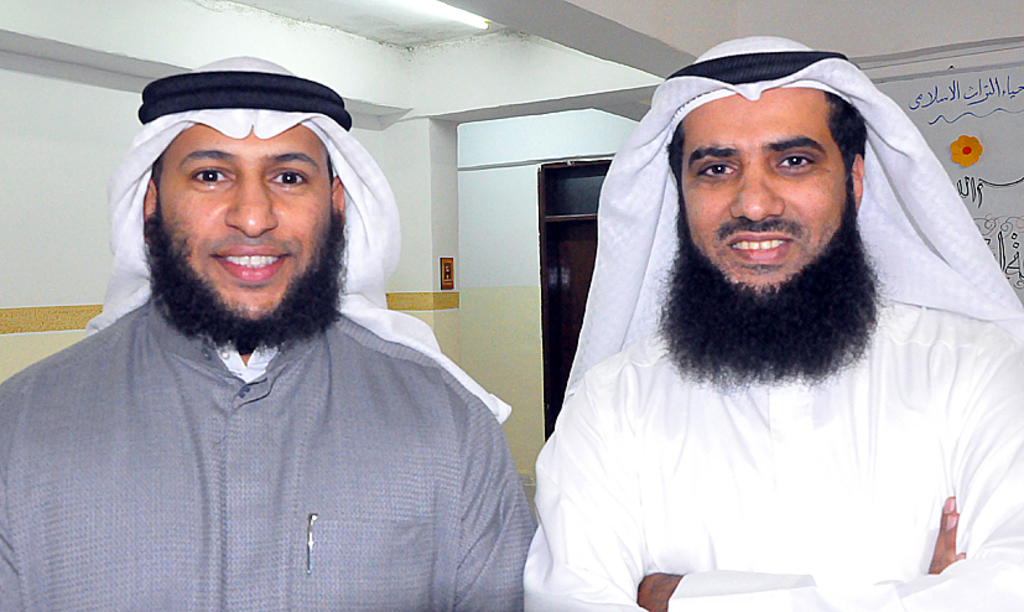face: (654, 82, 897, 394), (126, 111, 377, 371)
